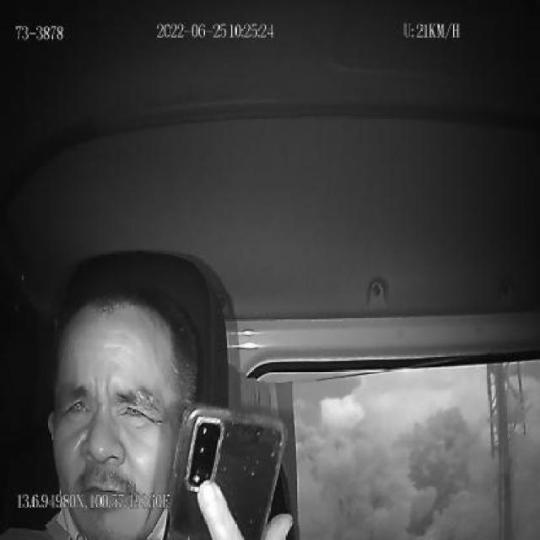phone: (163, 403, 288, 540)
